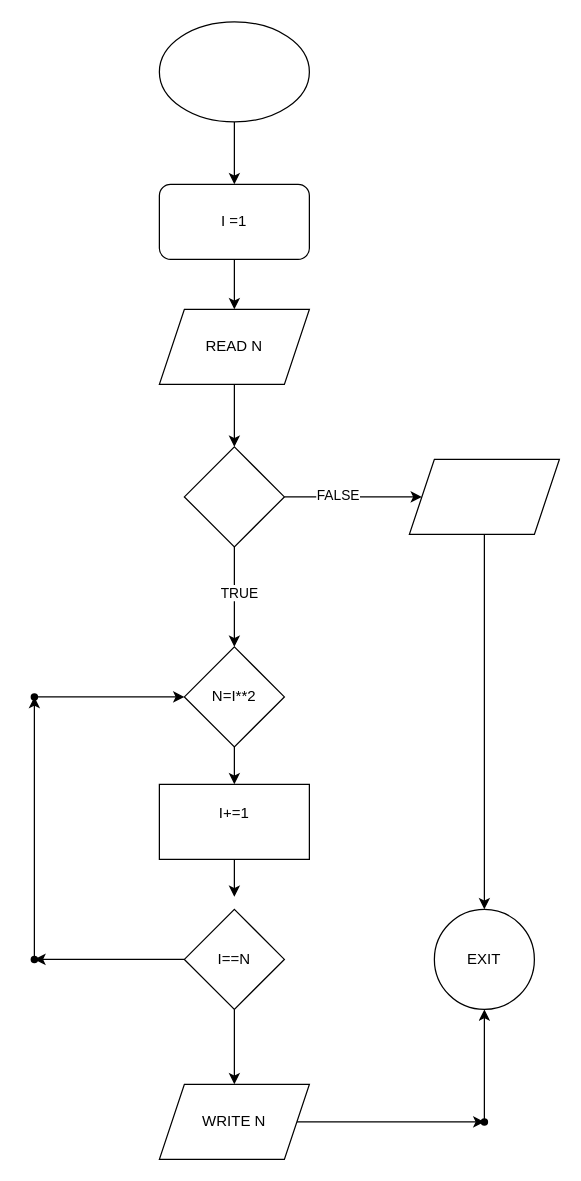
The diagram is 581 pixels wide and 1181 high, and some of its shapes have lost their labels. The centre of each missing label's shape, as x and y in pixels:
N>0: (233,496)
START: (233,71)
WRITE "Error n negativo": (483,496)
